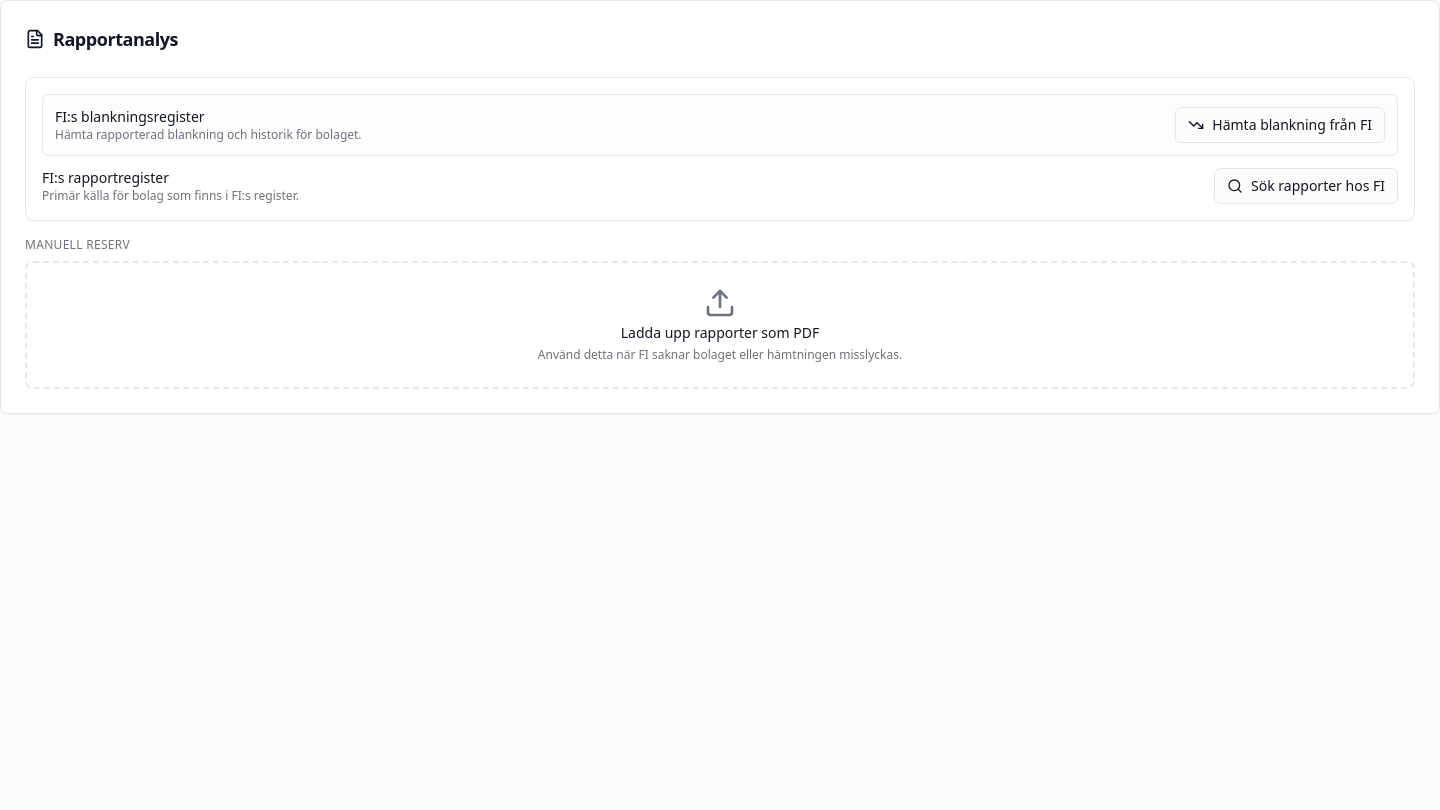
it: ReportAnalyzer FI workflow › filters bilingual editions while keeping one available language per report by default
Click the button "Sök rapporter hos FI" at (1306, 186), box [1214,168,1398,204]
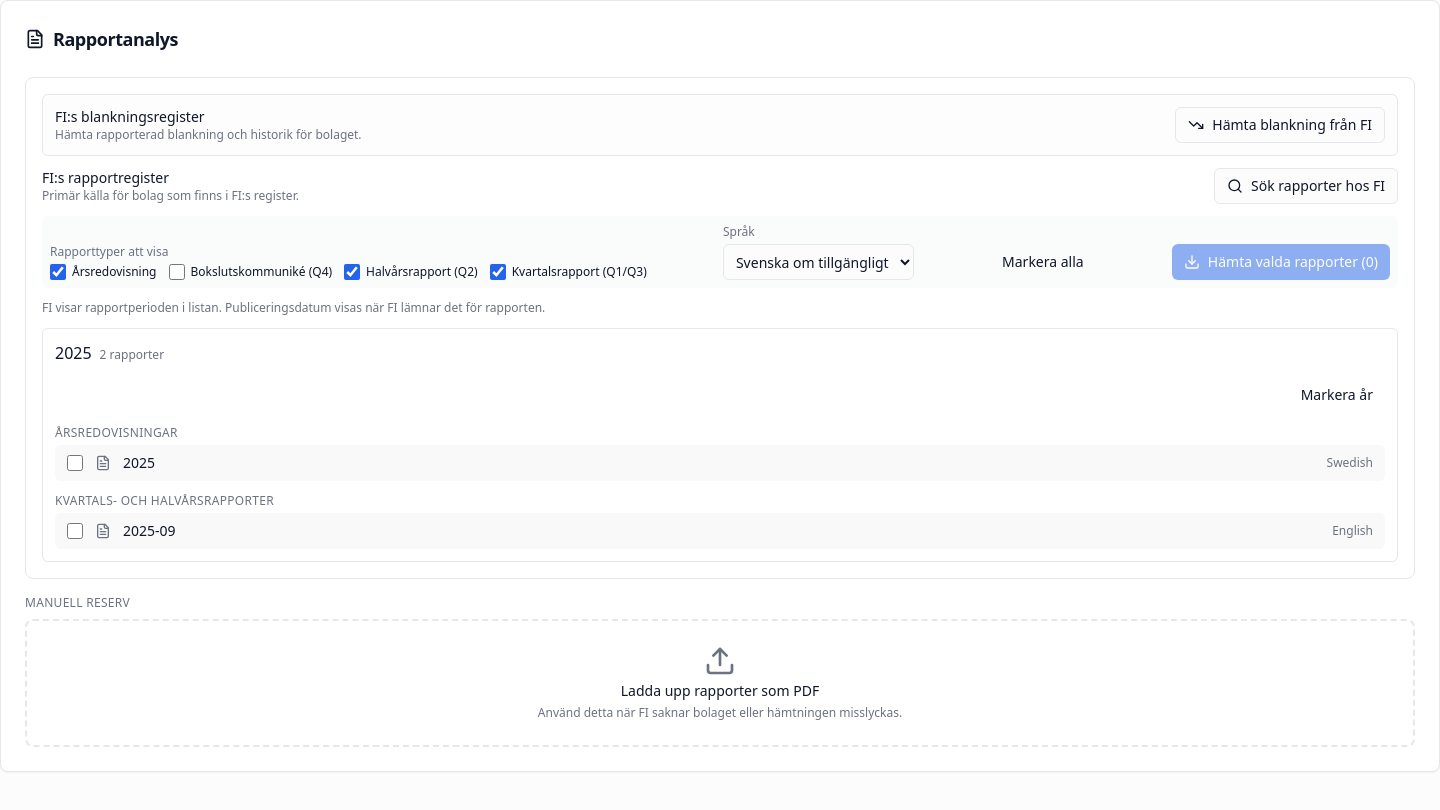
Expected: the checkbox named "Välj 2025 Annual report Swedish" is shown, [67,455,83,471]
Expected: the checkbox named "Välj 2025-09 Quarterly report English" is shown, [67,523,83,539]
Select "English if available" in the dropdown named "Filtrera rapporter efter språk" at (818, 262), box [723,244,914,280]
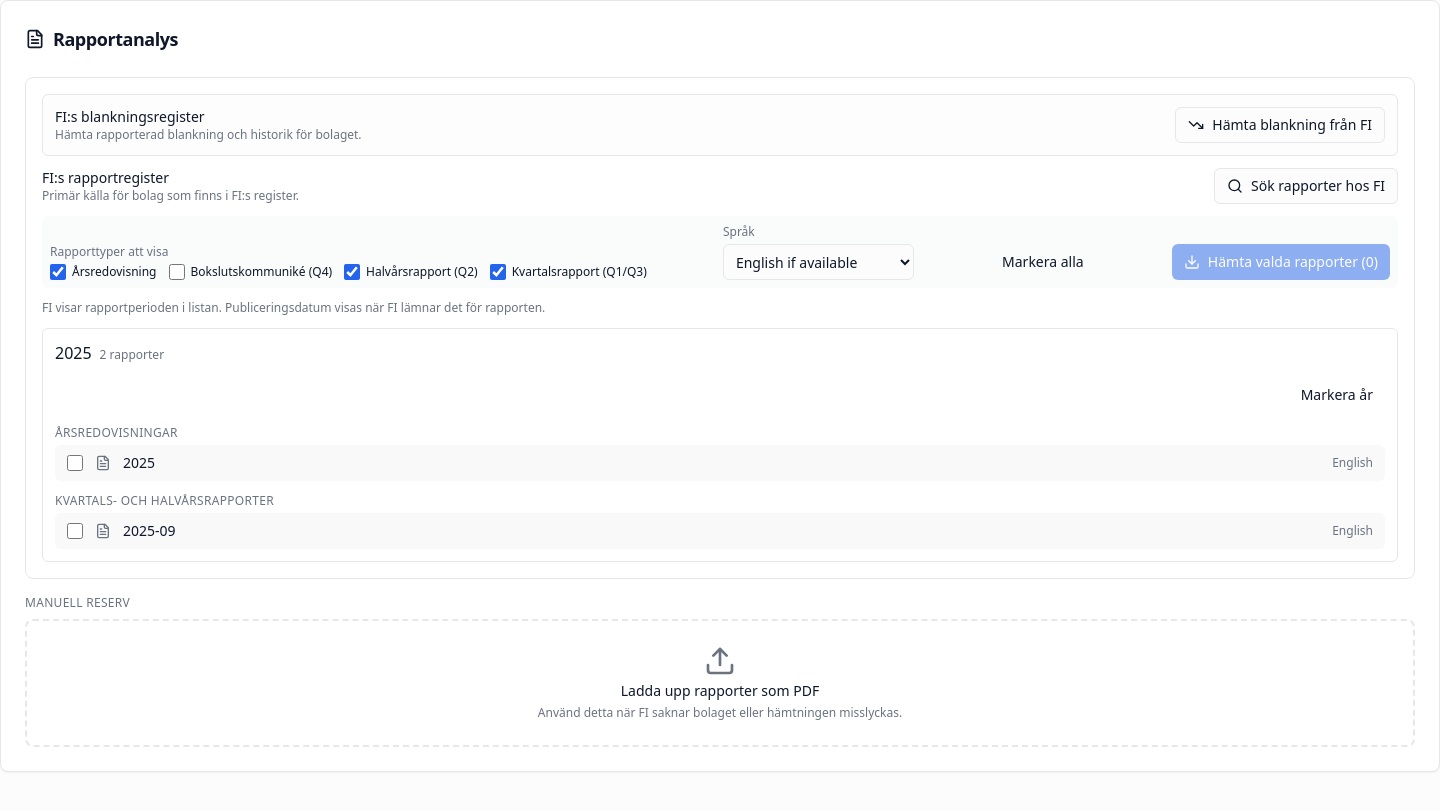
Expected: the checkbox named "Välj 2025 Annual report English" is shown, [67,455,83,471]
Select "Visa båda språken" in the dropdown named "Filtrera rapporter efter språk" at (818, 262), box [723,244,914,280]
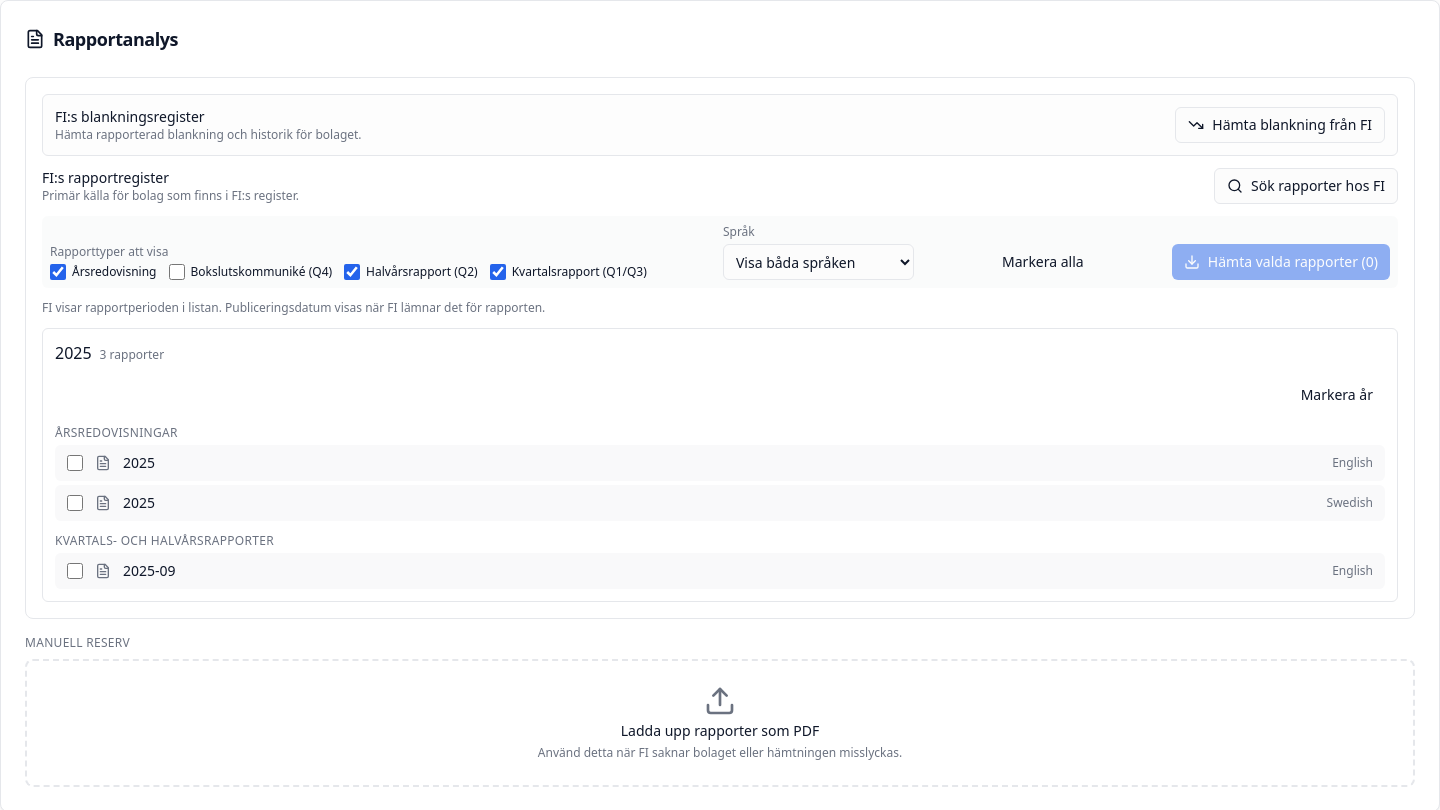
Expected: the checkbox named "Välj 2025 Annual report English" is shown, [67,455,83,471]
Expected: the checkbox named "Välj 2025 Annual report Swedish" is shown, [67,495,83,511]
